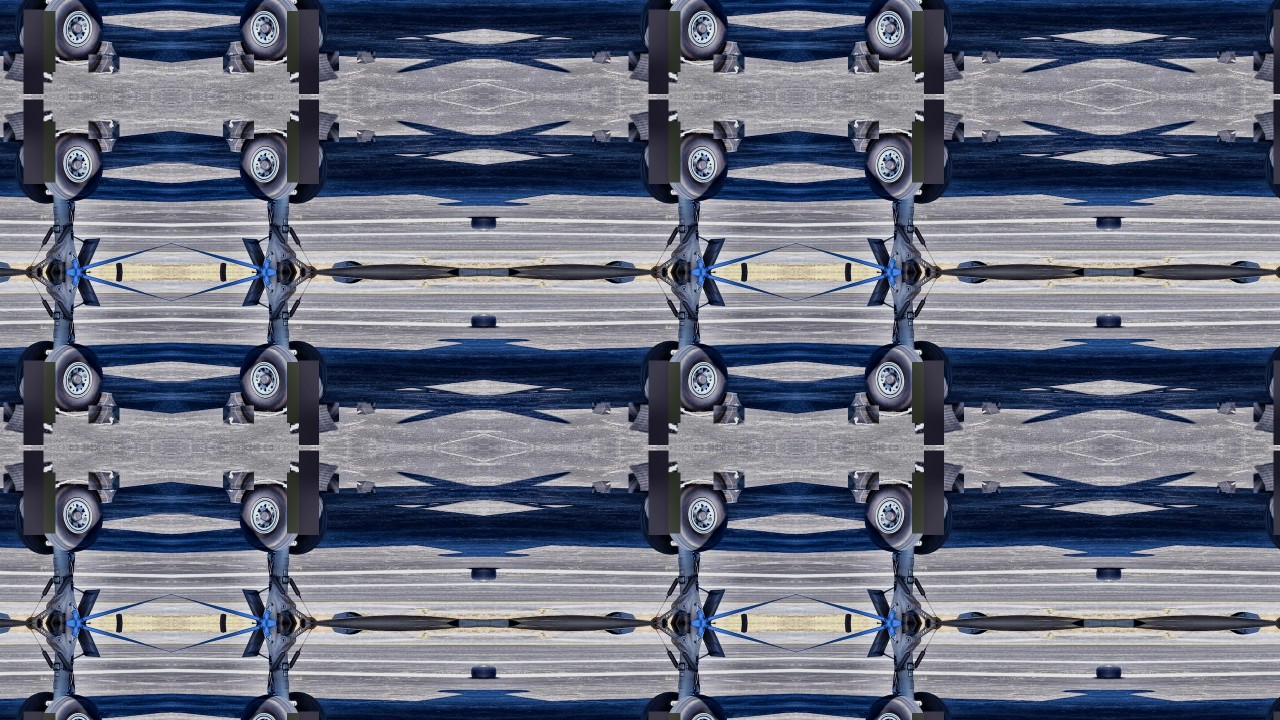chock: (3, 50, 52, 83), (290, 50, 339, 83), (628, 50, 677, 83), (3, 402, 52, 435), (290, 402, 339, 435), (628, 402, 677, 435), (916, 50, 964, 83), (916, 402, 964, 435), (3, 109, 52, 141), (290, 109, 339, 141), (628, 109, 677, 141), (3, 461, 52, 493), (290, 461, 339, 493), (628, 461, 677, 493), (916, 109, 964, 141), (916, 461, 964, 493), (1254, 50, 1280, 83), (1254, 402, 1280, 435), (24, 40, 59, 64), (282, 40, 317, 64), (650, 40, 685, 64), (908, 40, 943, 64), (24, 128, 59, 152), (282, 128, 317, 152), (650, 128, 685, 152), (908, 128, 943, 152), (24, 392, 59, 416), (282, 392, 317, 416), (650, 392, 685, 416), (908, 392, 943, 416), (24, 480, 59, 504), (282, 480, 317, 504), (650, 480, 685, 504), (908, 480, 943, 504), (1254, 109, 1280, 141), (1254, 461, 1280, 493), (86, 40, 120, 61), (221, 40, 255, 61), (712, 40, 746, 61), (847, 40, 881, 61), (86, 131, 120, 152), (221, 131, 255, 152), (712, 131, 746, 152), (847, 131, 881, 152), (86, 392, 120, 413), (221, 392, 255, 413), (712, 392, 746, 413), (847, 392, 881, 413), (86, 483, 120, 504), (221, 483, 255, 504), (712, 483, 746, 504), (847, 483, 881, 504), (848, 53, 880, 73), (88, 53, 119, 73), (223, 53, 254, 73), (713, 53, 744, 73), (848, 119, 880, 138), (848, 406, 880, 425), (848, 471, 880, 490), (88, 119, 119, 138), (223, 119, 254, 138), (713, 119, 744, 138), (88, 406, 119, 425), (223, 406, 254, 425), (713, 406, 744, 425), (88, 471, 119, 490), (223, 471, 254, 490), (713, 471, 744, 490), (356, 50, 375, 63), (592, 50, 611, 63), (356, 402, 375, 415), (592, 402, 611, 415), (983, 50, 1001, 63), (1218, 50, 1236, 63), (983, 402, 1001, 415), (1218, 402, 1236, 415), (356, 129, 375, 141), (592, 129, 611, 141), (356, 481, 375, 493), (592, 481, 611, 493), (983, 129, 1001, 141), (1218, 129, 1236, 141), (983, 481, 1001, 493), (1218, 481, 1236, 493), (1276, 40, 1280, 64), (1276, 128, 1280, 152), (1276, 392, 1280, 416), (1276, 480, 1280, 504)
wheel: (866, 133, 926, 200), (866, 485, 926, 552), (866, 345, 926, 411), (42, 133, 101, 200), (240, 133, 299, 200), (668, 133, 727, 200), (42, 485, 101, 552), (240, 485, 299, 552), (668, 485, 727, 552), (42, 345, 101, 411), (240, 345, 299, 411), (668, 345, 727, 411), (866, 0, 926, 59), (42, 0, 101, 59), (240, 0, 299, 59), (668, 0, 727, 59), (13, 140, 53, 204), (289, 140, 329, 204), (638, 140, 678, 204), (914, 140, 954, 204), (13, 340, 53, 404), (289, 340, 329, 404), (638, 340, 678, 404), (914, 340, 954, 404), (13, 492, 53, 556), (289, 492, 329, 556), (638, 492, 678, 556), (914, 492, 954, 556), (13, 0, 53, 52), (289, 0, 329, 52), (638, 0, 678, 52), (914, 0, 954, 52), (866, 697, 926, 720), (42, 697, 101, 720), (240, 697, 299, 720), (668, 697, 727, 720), (13, 692, 53, 720), (289, 692, 329, 720), (638, 692, 678, 720), (914, 692, 954, 720), (1264, 140, 1280, 204), (1264, 340, 1280, 404), (1264, 492, 1280, 556), (1264, 0, 1280, 52), (1264, 692, 1280, 720), (471, 568, 484, 582), (483, 568, 496, 582), (1097, 568, 1110, 582), (471, 666, 484, 680), (483, 666, 496, 680), (1097, 666, 1110, 680), (471, 216, 484, 229), (483, 216, 496, 229), (1097, 216, 1110, 229), (471, 314, 484, 327), (483, 314, 496, 327), (1097, 314, 1110, 327), (1110, 568, 1122, 582), (1110, 666, 1122, 680), (1110, 216, 1122, 229), (1110, 314, 1122, 327)
